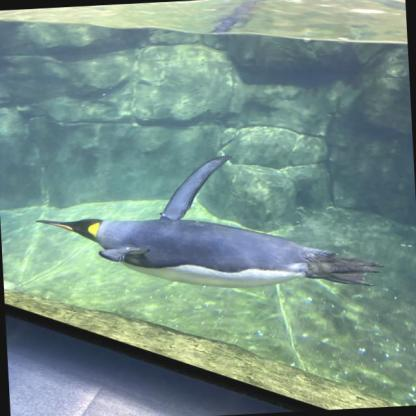penguin: (27, 149, 395, 303)
